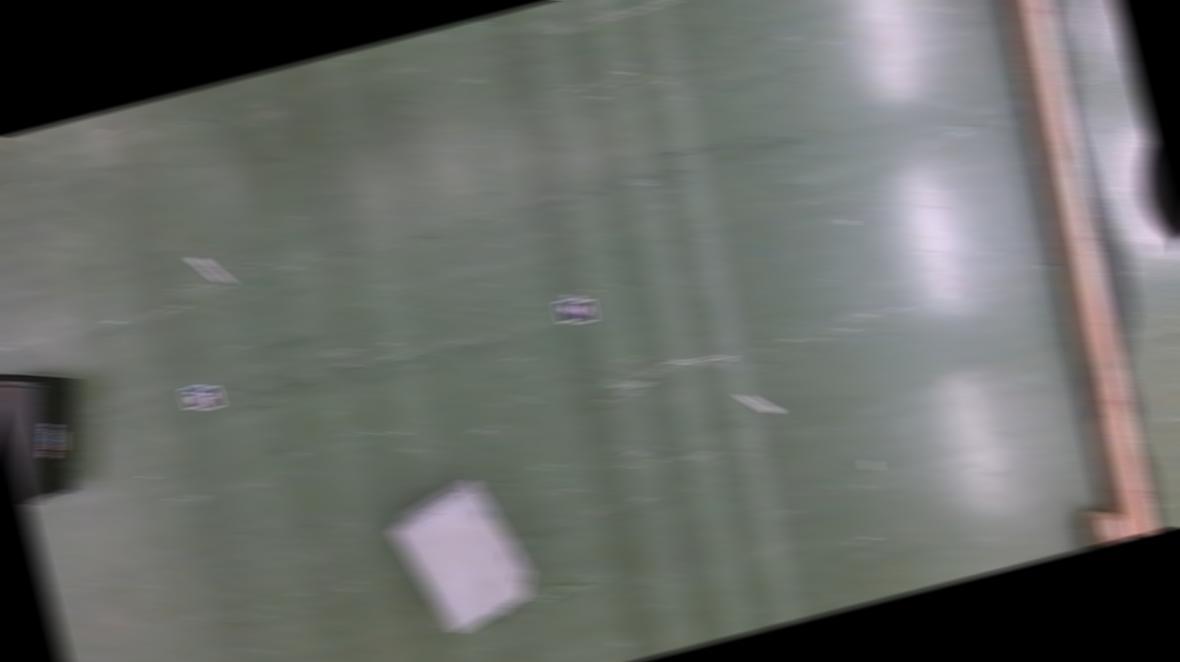probes: (189, 250, 230, 290), (736, 386, 779, 420)
rako: (378, 469, 544, 644), (0, 352, 105, 505)
